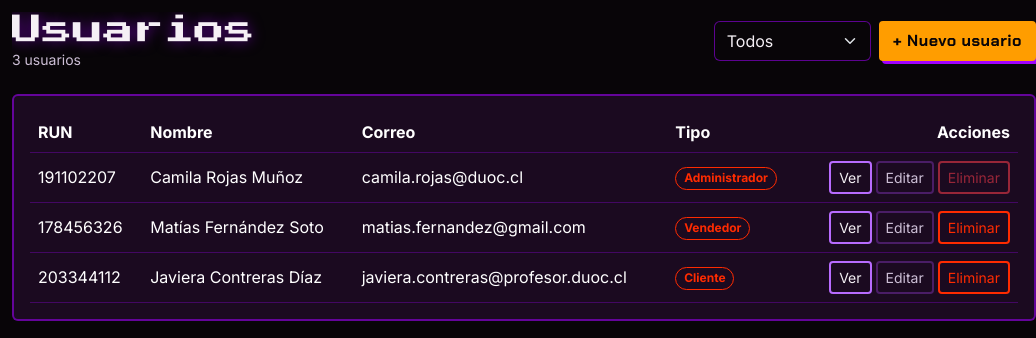
Test: Panel admin: Usuarios y órdenes › filtra usuarios por tipo y no permite eliminarse a sí mismo
Expected: the button with aria-label "Eliminar Camila" is disabled, [938,160,1010,194]
Select "Cliente" in the dropdown named "Filtrar por tipo" at (792,41), box [714,21,871,61]
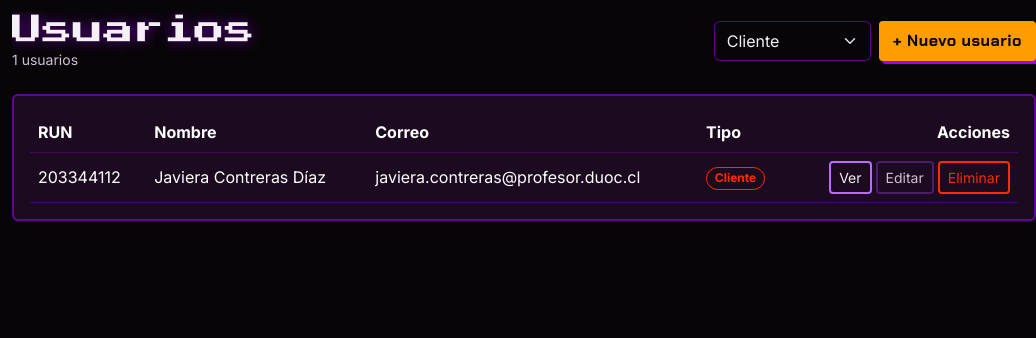
Expected: the number of rows is 2, [30,112,1018,152]; [30,152,1018,202]
